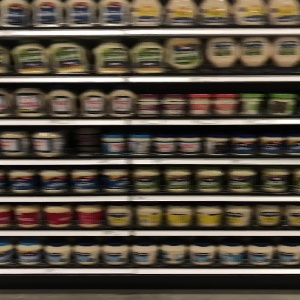void: (63, 127, 100, 155)
